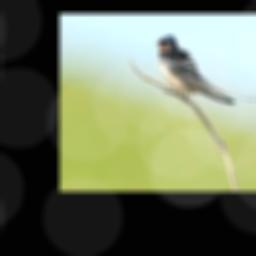Swallow: (155, 35, 254, 104)
